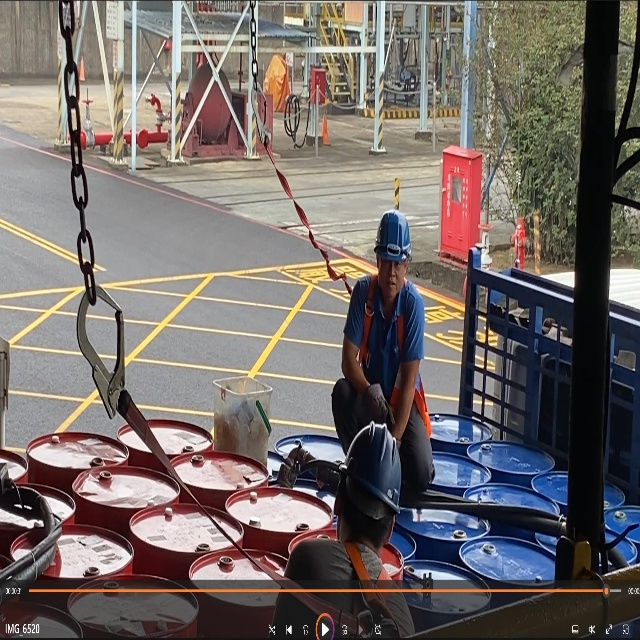Arnes_seguridad: (290, 539, 414, 640)
